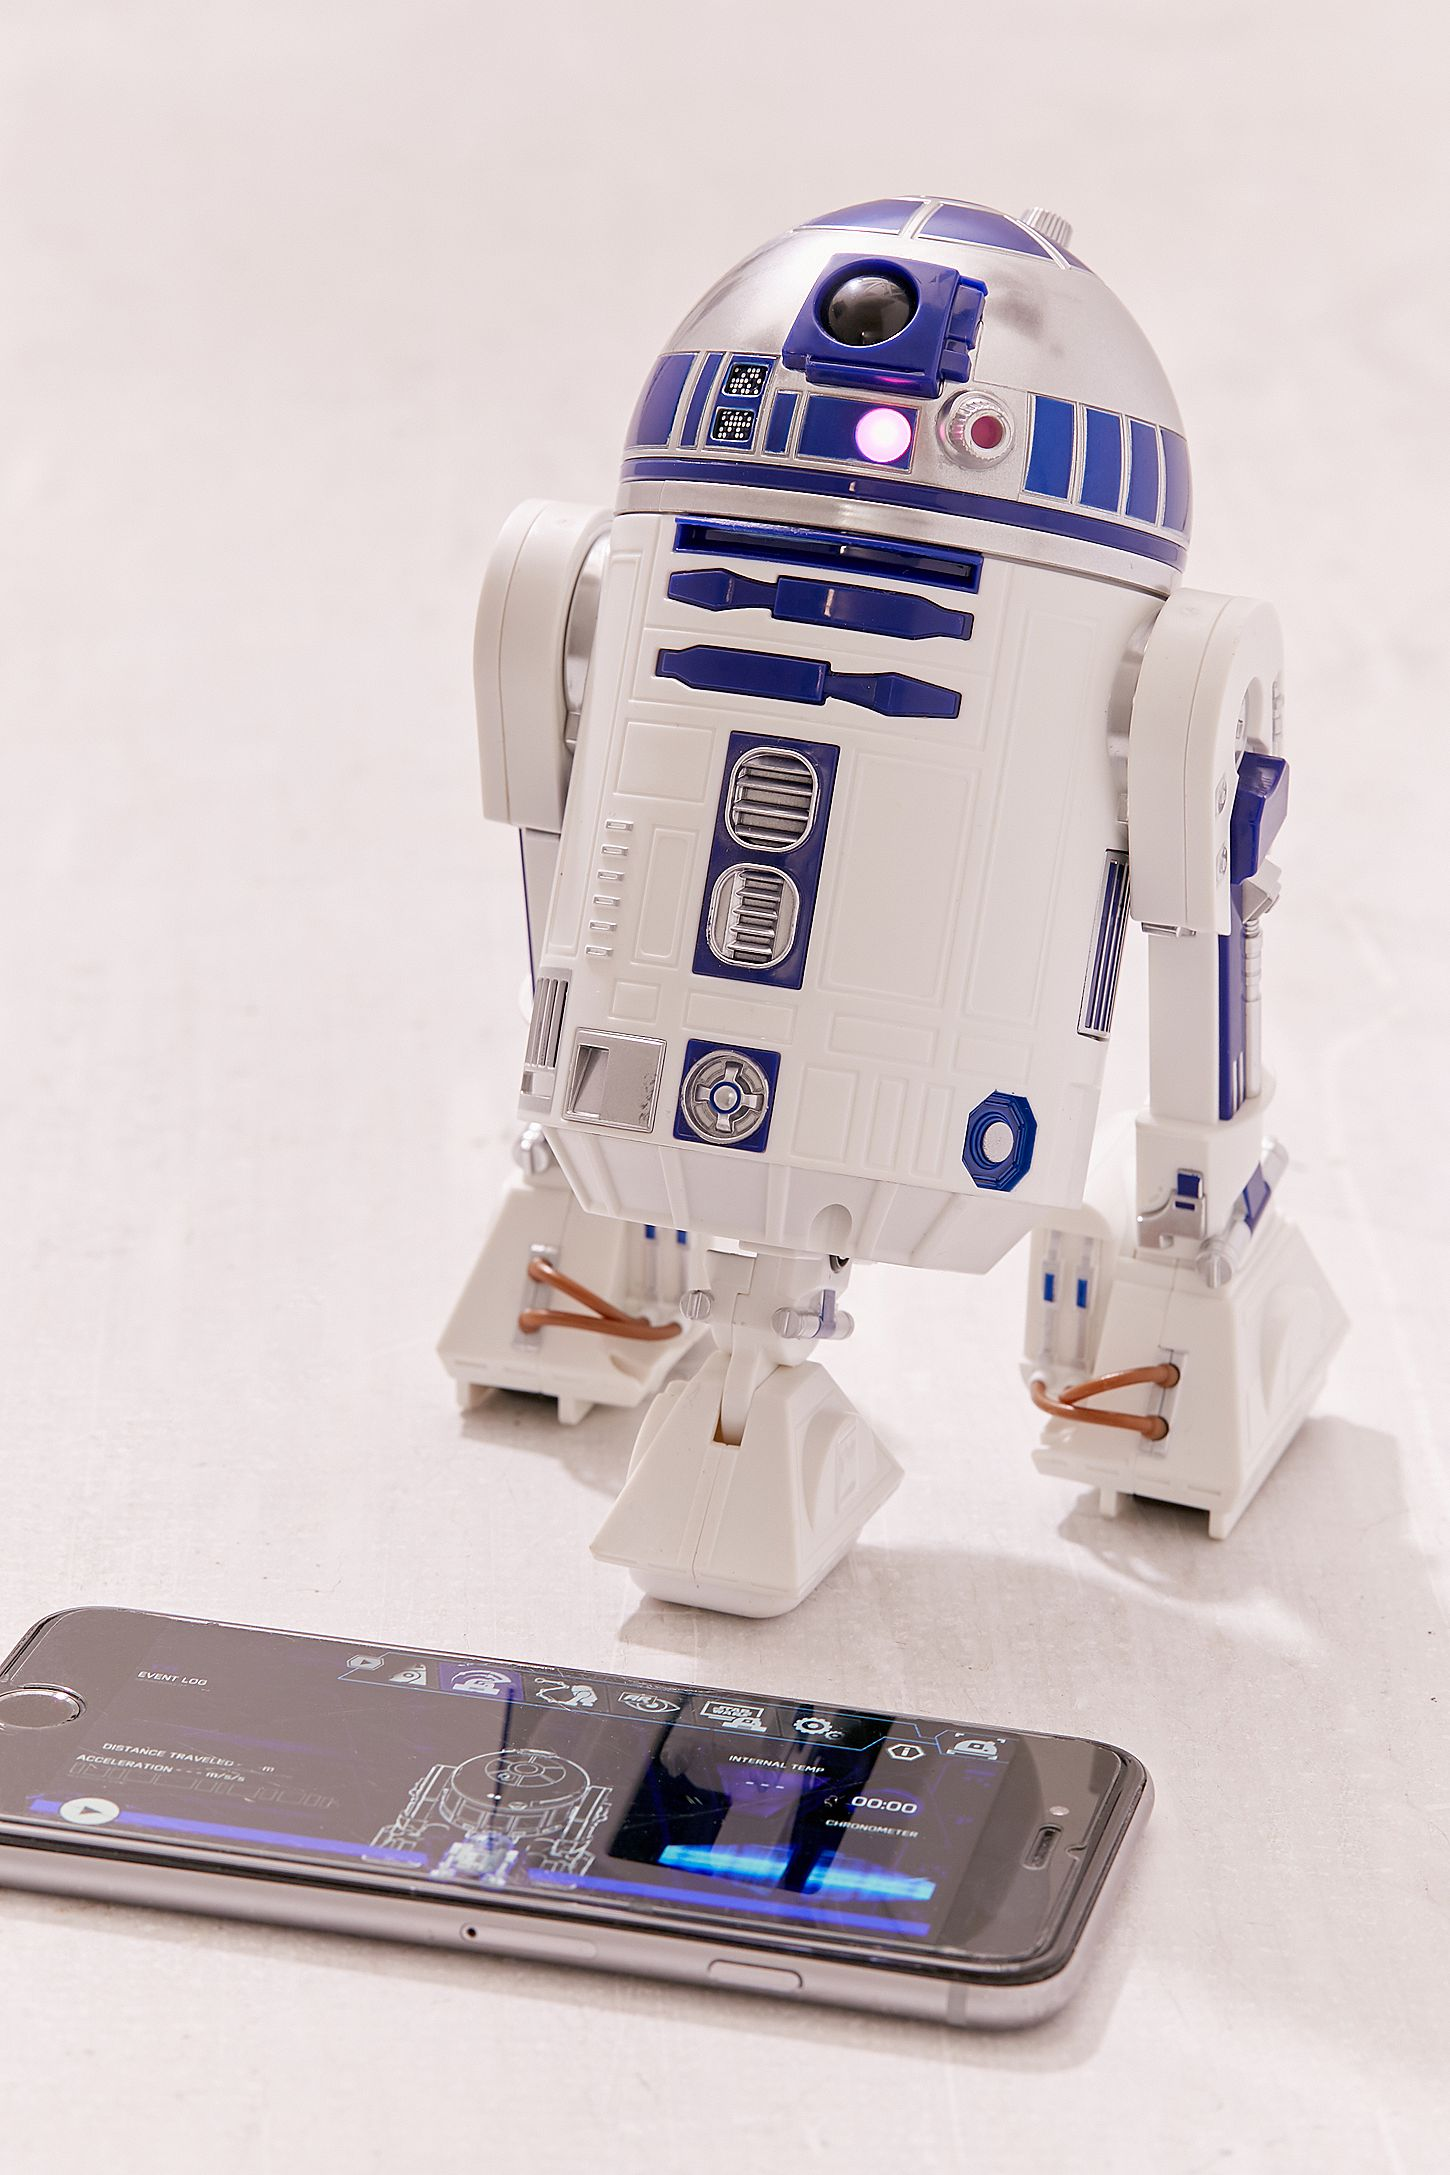r2d2: (439, 191, 1355, 1622)
